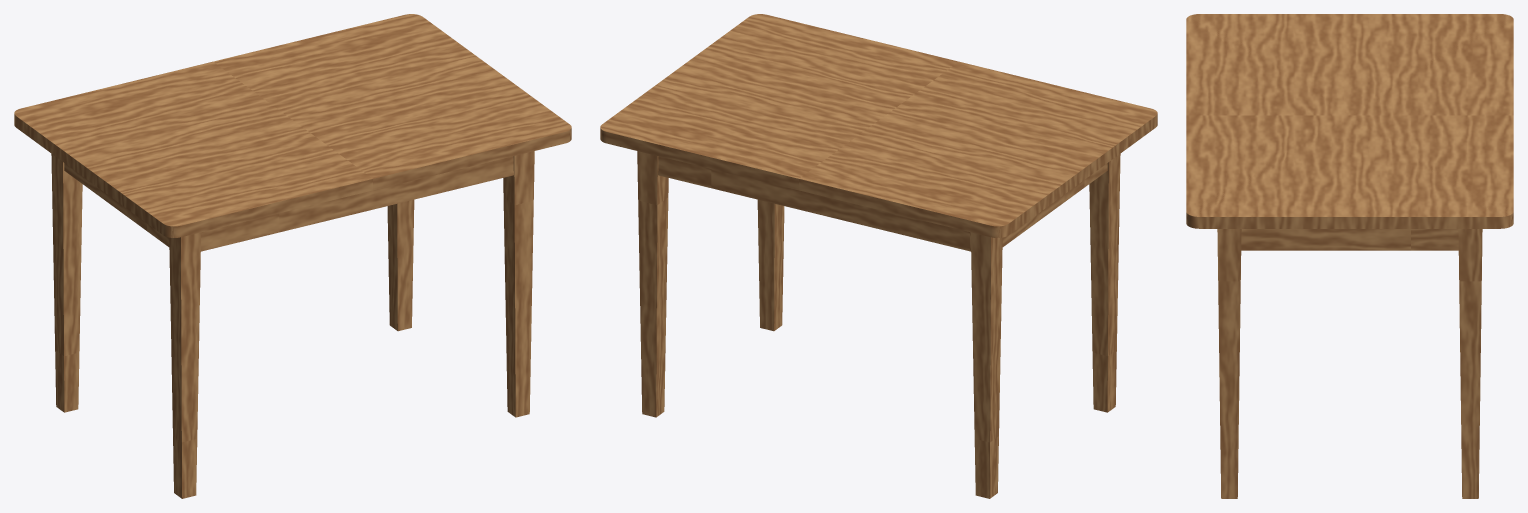
The picture shows the model from 3 angles, left to right: view 1: azimuth 30°, elevation 25°; view 2: azimuth 150°, elevation 25°; view 3: azimuth 270°, elevation 25°; orthographic projection. The views are drawn at different scales.
Visible parts, largest first — view 1: Kitchen table, wooden; view 2: Kitchen table, wooden; view 3: Kitchen table, wooden.
Boxes of the visible parts, x1,y1,x2,y2 form: Kitchen table, wooden: [14, 14, 571, 498]; Kitchen table, wooden: [600, 14, 1157, 498]; Kitchen table, wooden: [1186, 14, 1513, 498].
Bounding box in the file's own units: 1.1 × 0.75 × 0.75.
1 material, 1 textured.
